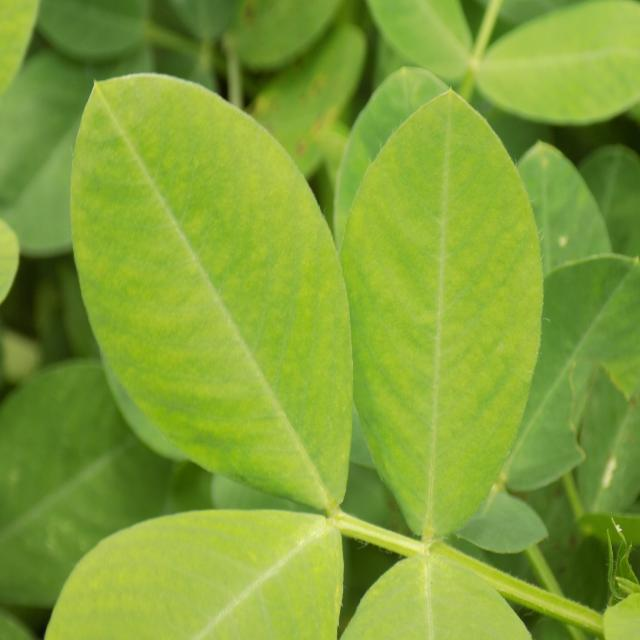Ground nut_healthy: (77, 73, 354, 522), (339, 86, 542, 545)
